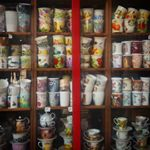cups: (81, 125, 103, 141), (111, 115, 128, 130), (35, 140, 57, 150), (133, 114, 149, 127)
